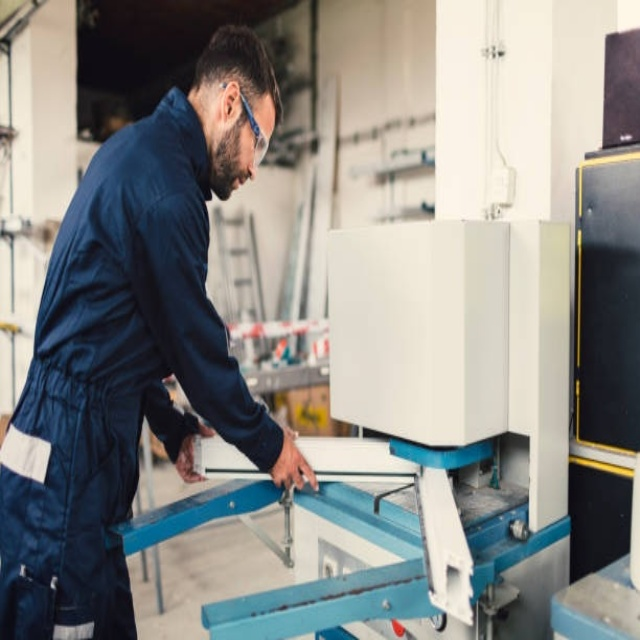Gafas: (223, 82, 270, 169)
Sin_guantes: (174, 409, 218, 493), (267, 431, 319, 497)
Sin_mascara: (221, 169, 257, 202)
